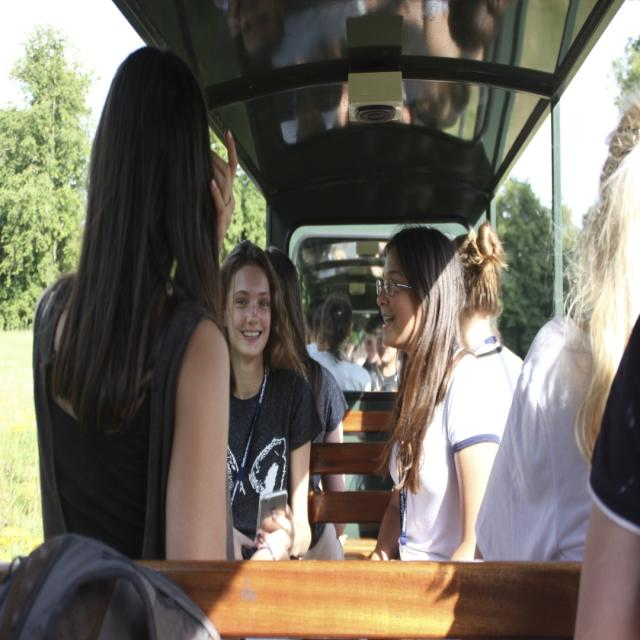body: (30, 41, 241, 564), (471, 99, 640, 565), (369, 224, 501, 564), (214, 238, 324, 564), (263, 244, 350, 562), (569, 317, 640, 638), (291, 224, 406, 394), (452, 220, 525, 438), (310, 292, 372, 540)
